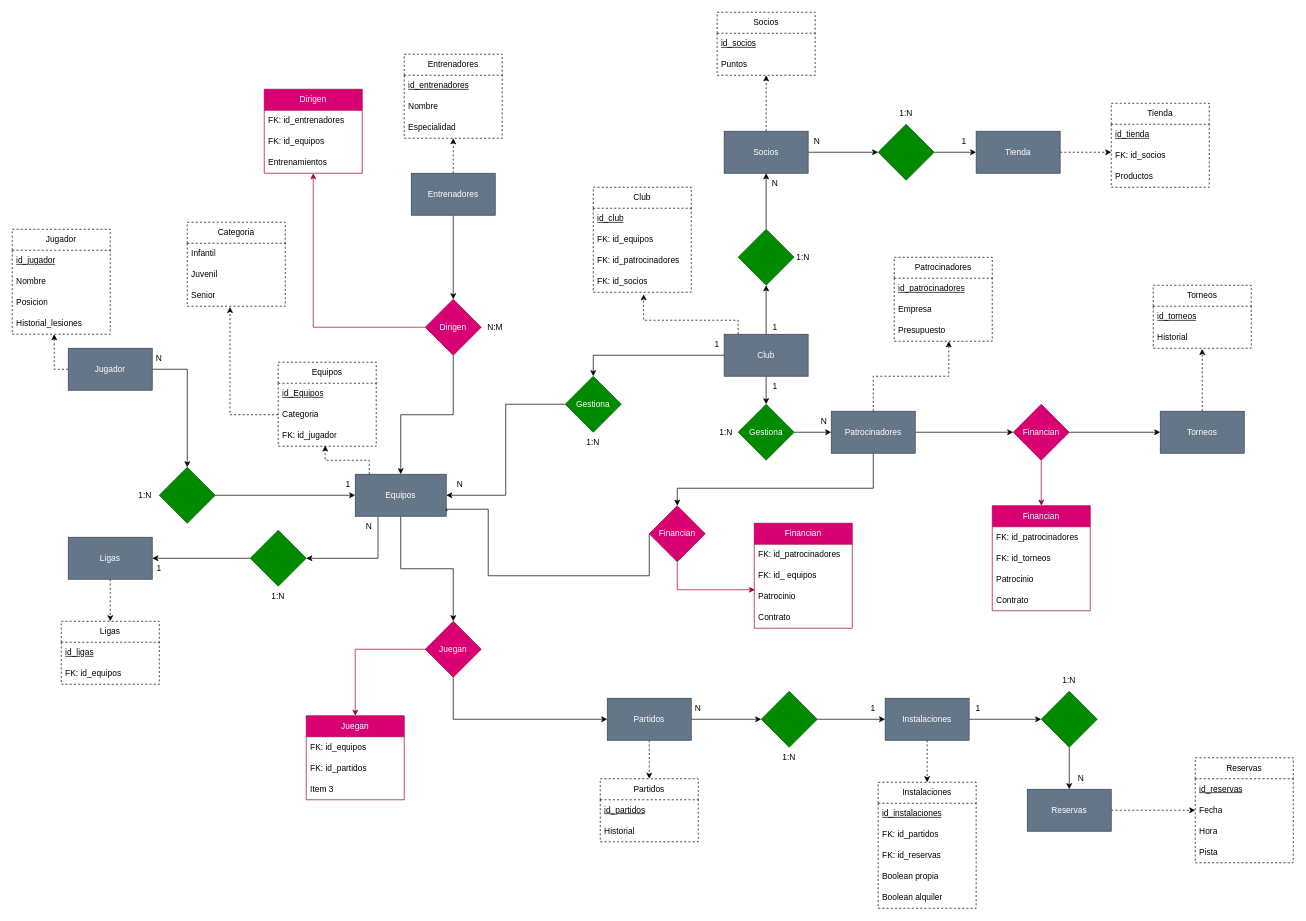
This 1306x921 diagram has some shape labels left out. The centre of each missing label's shape, as x and y in pixels:
"Compiten_en" goes at point 278,558.
"Compran" goes at point 905,152.
"Pertenece" goes at point 187,495.
"requieren" goes at point 1069,719.
"se_juegan" goes at point 789,719.
"Tiene" goes at point 765,257.
